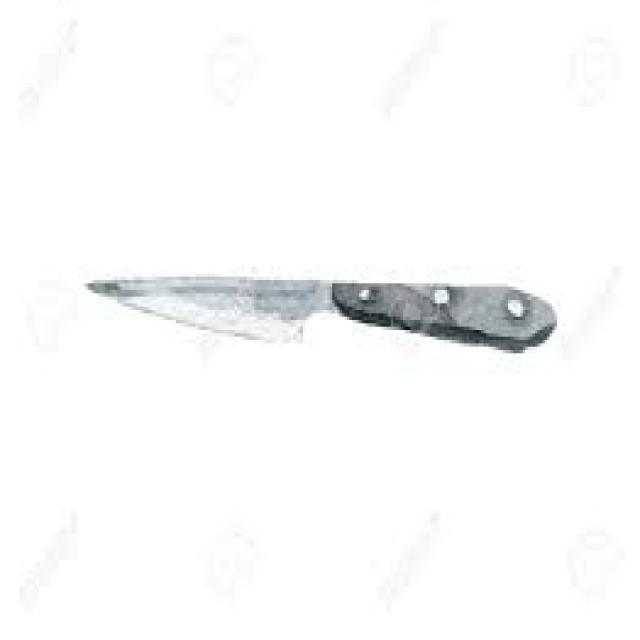Knife: (83, 270, 557, 350)
